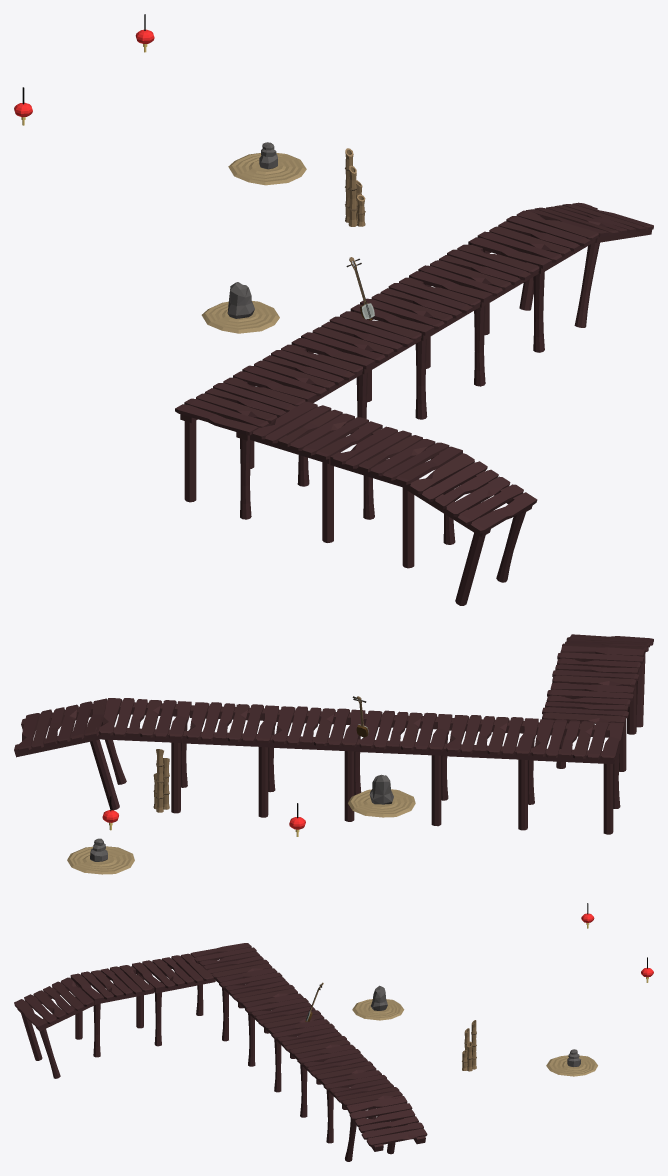
The model's file is other.glb.
3 views of the same model, one above another, from view 1: azimuth 30°, elevation 25°; view 2: azimuth 150°, elevation 25°; view 3: azimuth 270°, elevation 25° (orthographic). The views are drawn at different scales.
Parts seen in each view (by area): view 1: SM_Env_Bridge_13, SM_Env_Bridge_6, SM_Env_Bridge_5, SM_Env_Bridge_171, SM_Env_Bridge_11, SM_Env_Bridge_10, SM_Env_Bridge_9, SM_Env_Bridge_8, SM_Env_Bridge_7, SM_Env_Bridge_12, SM_Env_Zen_Rock_01_1017, SM_Env_Zen_Rock_02_1020 (+1 smaller); view 2: SM_Env_Bridge_6, SM_Env_Bridge_10, SM_Env_Bridge_8, SM_Env_Bridge_7, SM_Env_Bridge_11, SM_Env_Bridge_12, SM_Env_Bridge_9, SM_Env_Bridge_5, SM_Env_Bridge_171, SM_Env_Zen_Rock_01_1017, SM_Env_Zen_Rock_02_1020, SM_Env_Bridge_13 (+1 smaller); view 3: SM_Env_Bridge_12, SM_Env_Bridge_13, SM_Env_Bridge_5, SM_Env_Bridge_171, SM_Env_Bridge_10, SM_Env_Bridge_9, SM_Env_Bridge_11, SM_Env_Bridge_7, SM_Env_Bridge_8, SM_Env_Bridge_6, SM_Env_Zen_Rock_01_1017, SM_Env_Zen_Rock_02_1020 (+1 smaller).
Boxes of the visible parts, box(x1,y1,x2,y2) form: SM_Env_Bridge_13: box(405, 453, 537, 605); SM_Env_Bridge_6: box(175, 377, 305, 519); SM_Env_Bridge_5: box(250, 401, 382, 542); SM_Env_Bridge_171: box(330, 426, 462, 568); SM_Env_Bridge_11: box(468, 210, 598, 352); SM_Env_Bridge_10: box(409, 244, 539, 386); SM_Env_Bridge_9: box(350, 277, 480, 419); SM_Env_Bridge_8: box(291, 311, 421, 433); SM_Env_Bridge_7: box(233, 344, 362, 486); SM_Env_Bridge_12: box(519, 202, 653, 327); SM_Env_Zen_Rock_01_1017: box(201, 282, 279, 333); SM_Env_Zen_Rock_02_1020: box(228, 142, 306, 185); SM_Env_Bridge_6: box(527, 719, 623, 834); SM_Env_Bridge_10: box(182, 702, 278, 817); SM_Env_Bridge_8: box(355, 710, 452, 826); SM_Env_Bridge_7: box(442, 715, 538, 830); SM_Env_Bridge_11: box(95, 698, 191, 813); SM_Env_Bridge_12: box(14, 698, 126, 810); SM_Env_Bridge_9: box(268, 706, 365, 821); SM_Env_Bridge_5: box(542, 683, 634, 771); SM_Env_Bridge_171: box(552, 645, 644, 734); SM_Env_Zen_Rock_01_1017: box(348, 774, 415, 817); SM_Env_Zen_Rock_02_1020: box(67, 838, 134, 874); SM_Env_Bridge_13: box(562, 634, 653, 727); SM_Env_Bridge_12: box(345, 1096, 427, 1161); SM_Env_Bridge_13: box(14, 977, 95, 1078); SM_Env_Bridge_5: box(132, 953, 215, 1046); SM_Env_Bridge_171: box(70, 965, 154, 1057); SM_Env_Bridge_10: box(294, 1044, 376, 1117); SM_Env_Bridge_9: box(268, 1019, 350, 1092); SM_Env_Bridge_11: box(321, 1070, 402, 1143); SM_Env_Bridge_7: box(216, 968, 297, 1041); SM_Env_Bridge_8: box(242, 993, 324, 1066); SM_Env_Bridge_6: box(190, 943, 272, 1015); SM_Env_Zen_Rock_01_1017: box(352, 985, 404, 1020); SM_Env_Zen_Rock_02_1020: box(546, 1049, 597, 1076).
Bounding box in the file's own units: 16.95 × 6.28 × 24.58.
2 materials, 2 textured.
